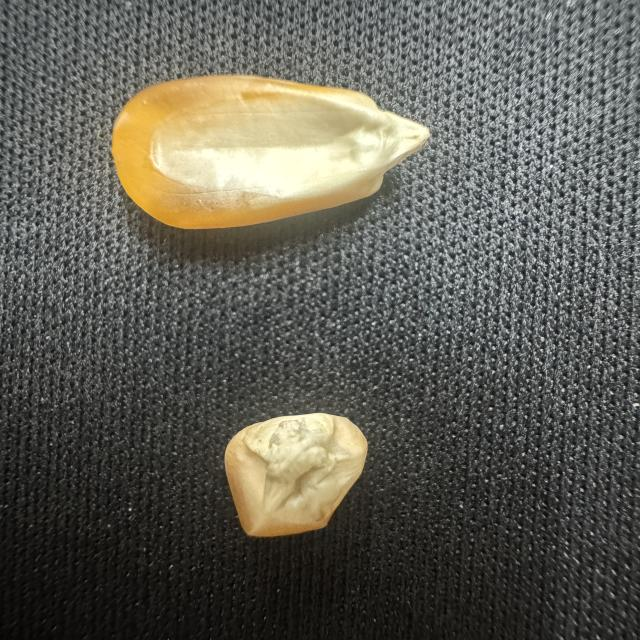Bad-Seed: (208, 404, 384, 546)
Good-Seed: (100, 67, 445, 238)
